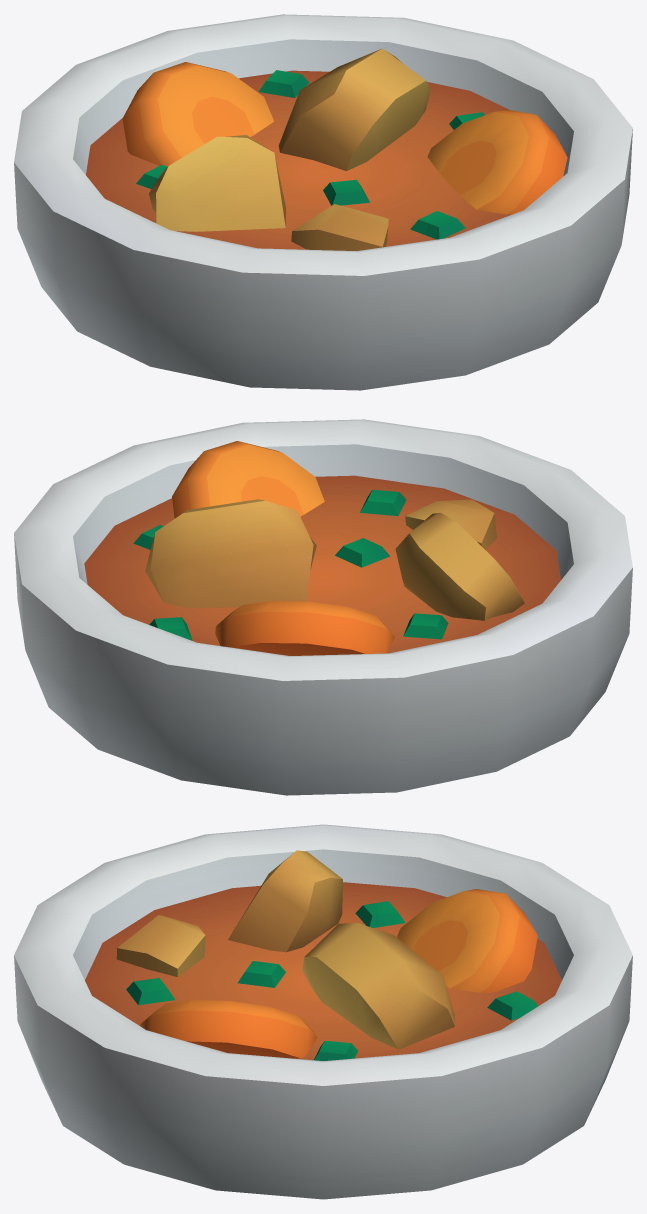
Rendered from gryta.glb.
3 renders of one model, top to bottom at view 1: azimuth 30°, elevation 25°; view 2: azimuth 150°, elevation 25°; view 3: azimuth 270°, elevation 25°, orthographic.
Visible parts, largest first — view 1: food_stew; view 2: food_stew; view 3: food_stew.
Boxes of the visible parts, x1,y1,x2,y2 form: food_stew: (14,14,632,390); food_stew: (14,419,632,795); food_stew: (14,824,632,1199).
Size of the model in its own units: 0.95 by 0.3697 by 0.95.
Materials: 1 (1 with a texture image).
